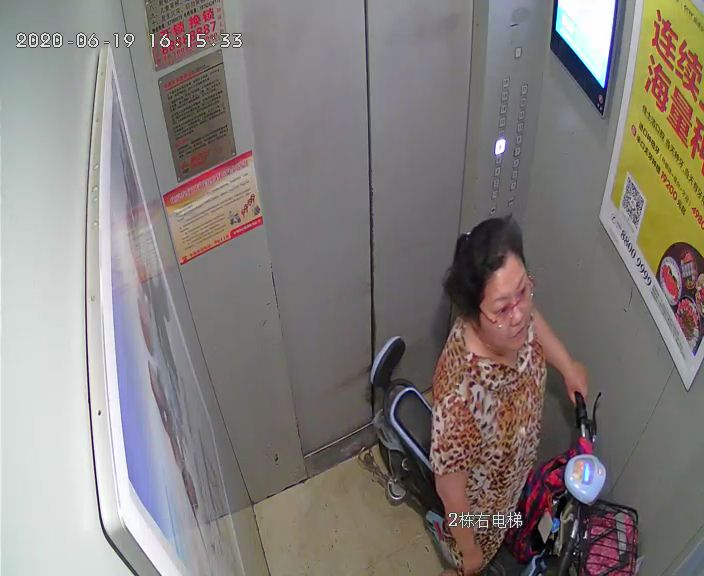Electric-bicycle: (366, 337, 639, 575)
